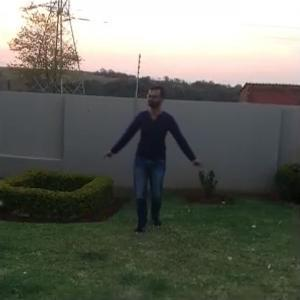land: (99, 81, 205, 236)
